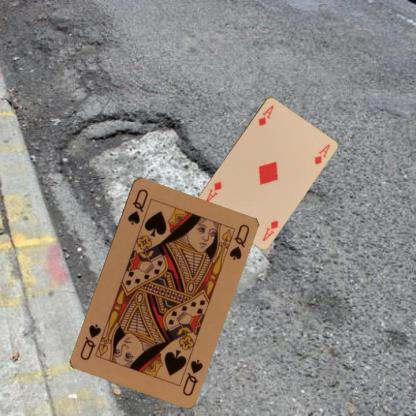Ad: (260, 217, 280, 242), (256, 102, 275, 127)
Qs: (124, 186, 149, 226), (180, 356, 204, 397)
